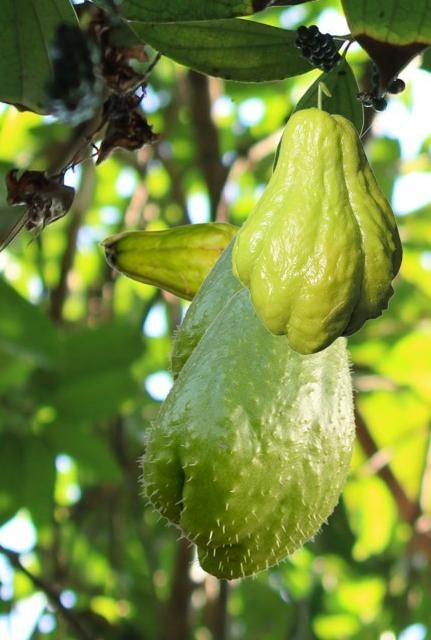sayote: (135, 287, 357, 584), (231, 81, 402, 354), (97, 221, 239, 302), (165, 233, 241, 383)
